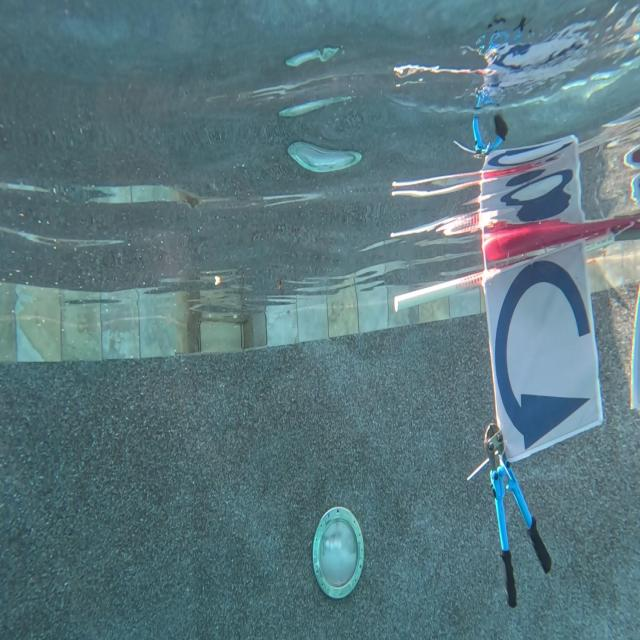blue_side: (482, 267, 596, 449)
